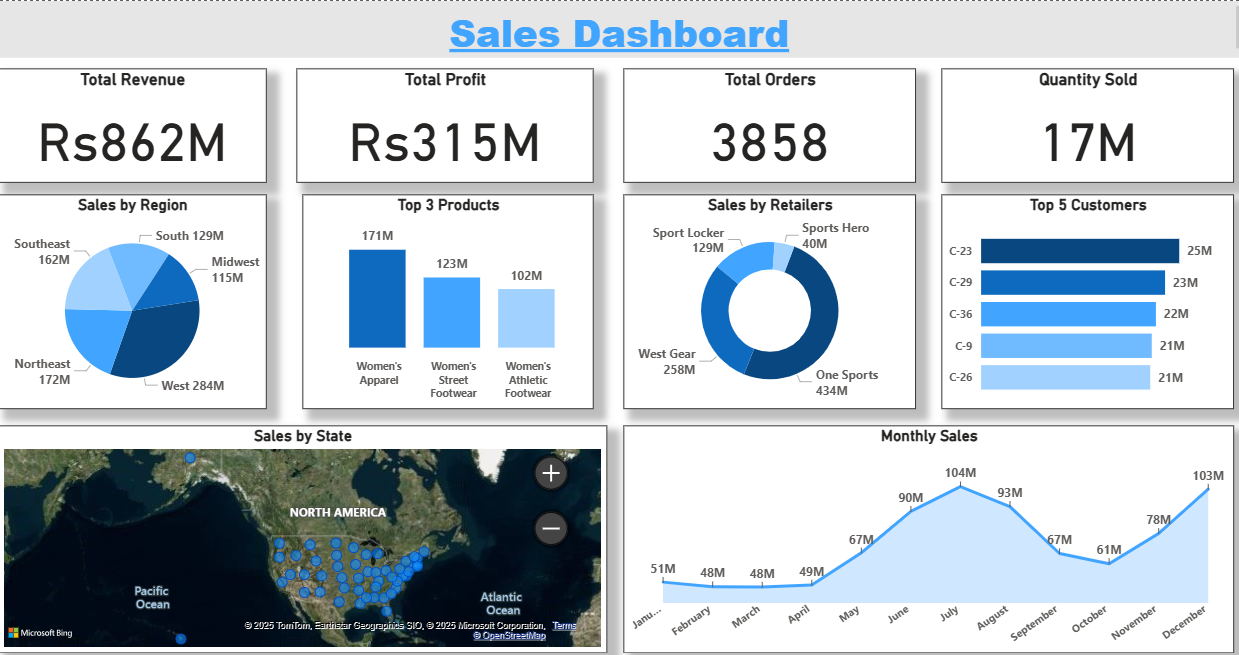

Layout of this report page (visuals, bound fields, positions):
{"tool":"powerbi","page":{"name":"Page 1","canvas":[1263,672],"ordinal":0},"visuals":[{"type":"textbox","box":[0,0,1263.6,57.6],"z":0},{"type":"card","title":"Total Revenue","fields":{"Values":["Sum(total sales (card).Total Sales)"]},"box":[0,68.2,271.2,115.2],"z":1000},{"type":"card","title":"Total Profit","fields":{"Values":["Sum(total profit (card).Operating Profit)"]},"box":[301.5,68.2,300,115.2],"z":2000},{"type":"card","title":"Total Orders","fields":{"Values":["Count(total orders (card).S.INVOICE NO.)"]},"box":[631.8,68.2,295.5,115.2],"z":3000},{"type":"card","title":"Quantity Sold","fields":{"Values":["Sum(quantity sold (card).Units Sold)"]},"box":[953,68.2,295.5,115.2],"z":4000},{"type":"pieChart","title":"Sales by Region","fields":{"Category":["sales by region (pie chart).Region"],"Y":["Sum(sales by region (pie chart).Total Sales)"]},"box":[0,195.5,271.2,216.7],"z":5000},{"type":"columnChart","title":"Top 3 Products","fields":{"Category":["sales by product (line chart).Products"],"Y":["Sum(sales by product (line chart).Total Sales)"]},"box":[307.6,195.5,293.9,216.7],"z":6000},{"type":"donutChart","title":"Sales by Retailers","fields":{"Category":["sales by retailer (donut chart).Retailer"],"Y":["Sum(sales by retailer (donut chart).Total Sales)"]},"box":[631.8,195.5,295.5,216.7],"z":7000},{"type":"barChart","title":"Top 5 Customers","fields":{"Category":["sales by customer (bar chart).CUSTOMER"],"Y":["Sum(sales by customer (bar chart).Total Sales)"]},"box":[953,195.5,295.5,216.7],"z":8000},{"type":"map","title":"Sales by State","fields":{"Category":["sales by state (map).State"]},"box":[0,428.8,615.2,230.3],"z":9000},{"type":"areaChart","title":"Monthly Sales","fields":{"Category":["sales by month (line chart).DATE.Variation.Date Hierarchy.Month"],"Y":["Sum(sales by month (line chart).Total Sales)"]},"box":[631.8,428.8,616.7,230.3],"z":10000}]}

Visuals, with their boxes in screenshot pixels (x1, y1, x2, y2), scaled from the page's 1263x672 canvas onto the 1239x655 screenshot:
textbox: {"x1": 0, "y1": 0, "x2": 1238, "y2": 56}
"Total Revenue" card: {"x1": 0, "y1": 66, "x2": 266, "y2": 179}
"Total Profit" card: {"x1": 296, "y1": 66, "x2": 590, "y2": 179}
"Total Orders" card: {"x1": 620, "y1": 66, "x2": 910, "y2": 179}
"Quantity Sold" card: {"x1": 935, "y1": 66, "x2": 1225, "y2": 179}
"Sales by Region" pieChart: {"x1": 0, "y1": 191, "x2": 266, "y2": 402}
"Top 3 Products" columnChart: {"x1": 302, "y1": 191, "x2": 590, "y2": 402}
"Sales by Retailers" donutChart: {"x1": 620, "y1": 191, "x2": 910, "y2": 402}
"Top 5 Customers" barChart: {"x1": 935, "y1": 191, "x2": 1225, "y2": 402}
"Sales by State" map: {"x1": 0, "y1": 418, "x2": 604, "y2": 642}
"Monthly Sales" areaChart: {"x1": 620, "y1": 418, "x2": 1225, "y2": 642}
